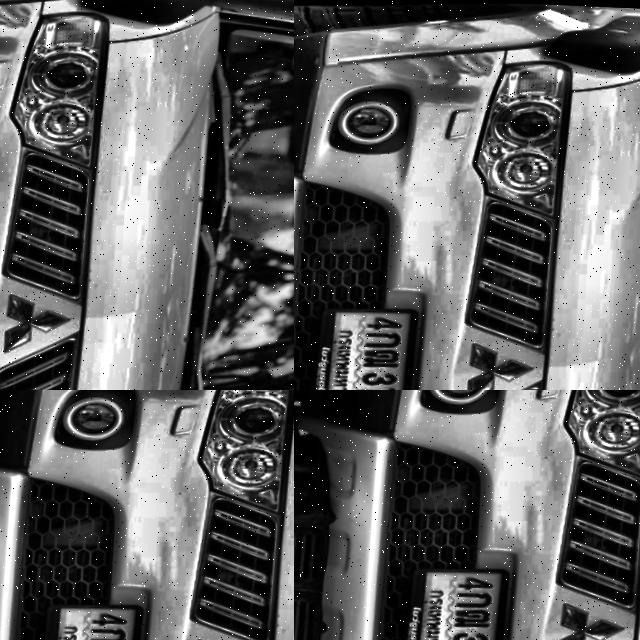license-plate: (398, 557, 526, 640), (204, 588, 279, 640)
